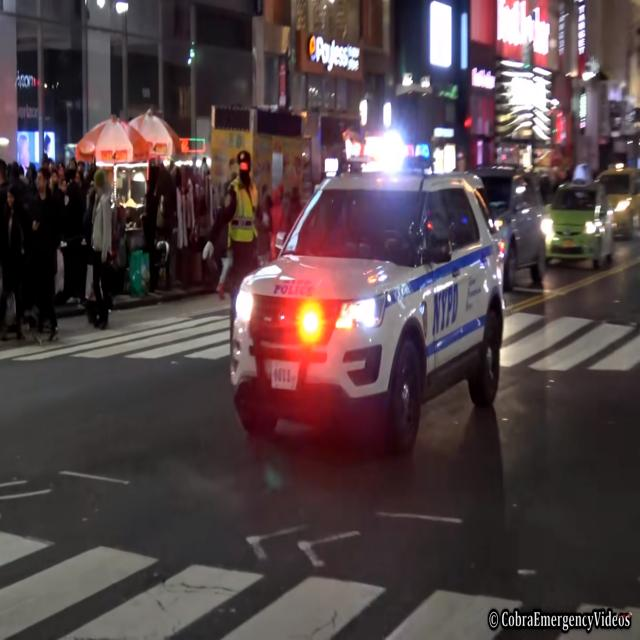emergency-vehicles: (199, 120, 526, 478)
